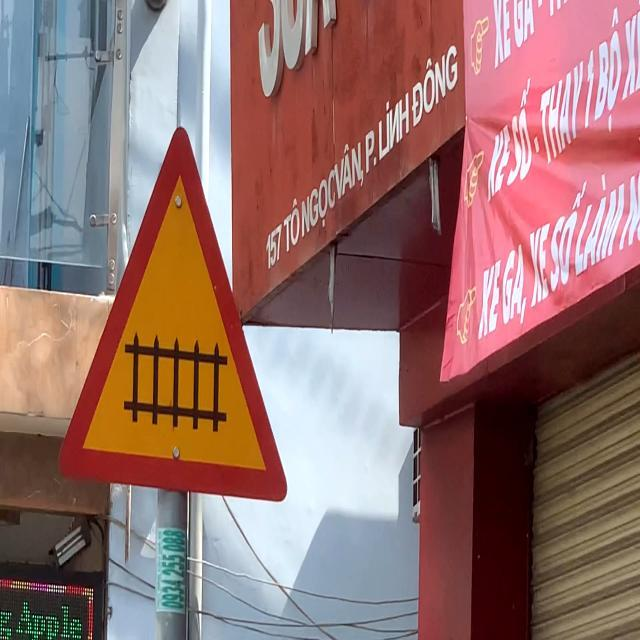W-210: (56, 127, 287, 502)
